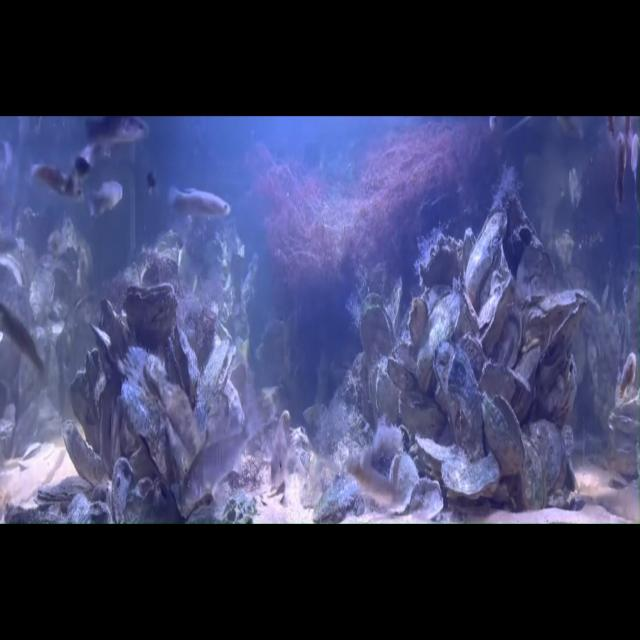Oyster- Indeterminate: (479, 362, 531, 419), (205, 393, 231, 442)
Oyster-Closed: (144, 353, 201, 458), (121, 378, 175, 484), (416, 291, 461, 392), (465, 209, 508, 300), (70, 349, 100, 453), (62, 420, 105, 484), (530, 420, 564, 492), (400, 391, 446, 439), (545, 356, 578, 420), (91, 324, 124, 383), (520, 436, 546, 509), (100, 298, 131, 358), (375, 358, 399, 424), (122, 345, 148, 390), (223, 379, 243, 435), (391, 344, 422, 377), (388, 356, 416, 391), (459, 293, 482, 333), (386, 278, 402, 333)
Oyster-Open: (434, 342, 484, 460), (521, 289, 588, 354), (196, 336, 236, 432), (482, 393, 525, 476), (478, 267, 514, 356), (124, 282, 178, 340), (165, 324, 200, 407), (416, 229, 462, 287), (111, 459, 152, 524), (445, 453, 500, 498), (410, 433, 462, 480), (360, 293, 392, 364), (408, 474, 444, 522), (141, 254, 179, 295), (389, 453, 419, 504), (409, 303, 429, 349)
